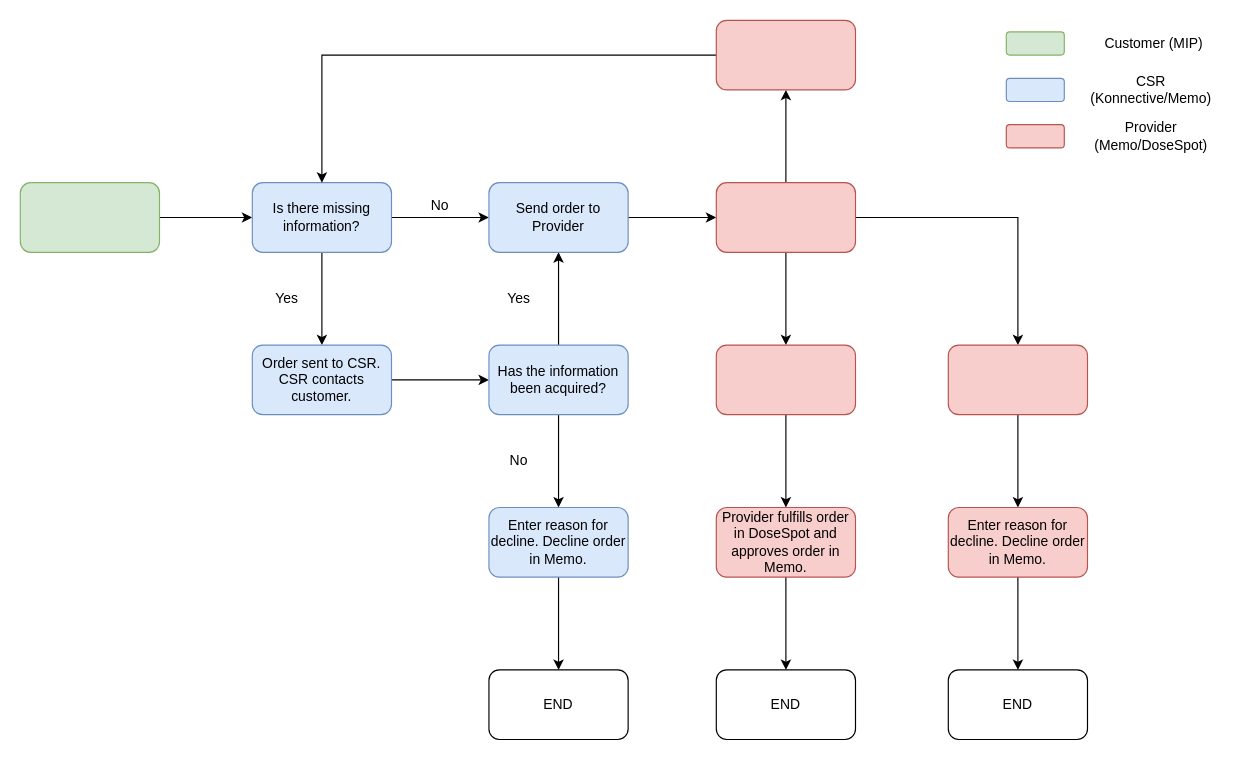
Image size: 1235x760. Some labels were removed from this diagram. The centre of each missing label's shape, as x and y in pixels:
Customer Places Order: the point at 89,217
Order requires more information: the point at 785,54
Provider APPROVES order: the point at 785,379
Provider DECLINES order: the point at 1017,379
Provider reviews order in Memo & DoseSpot: the point at 785,217
